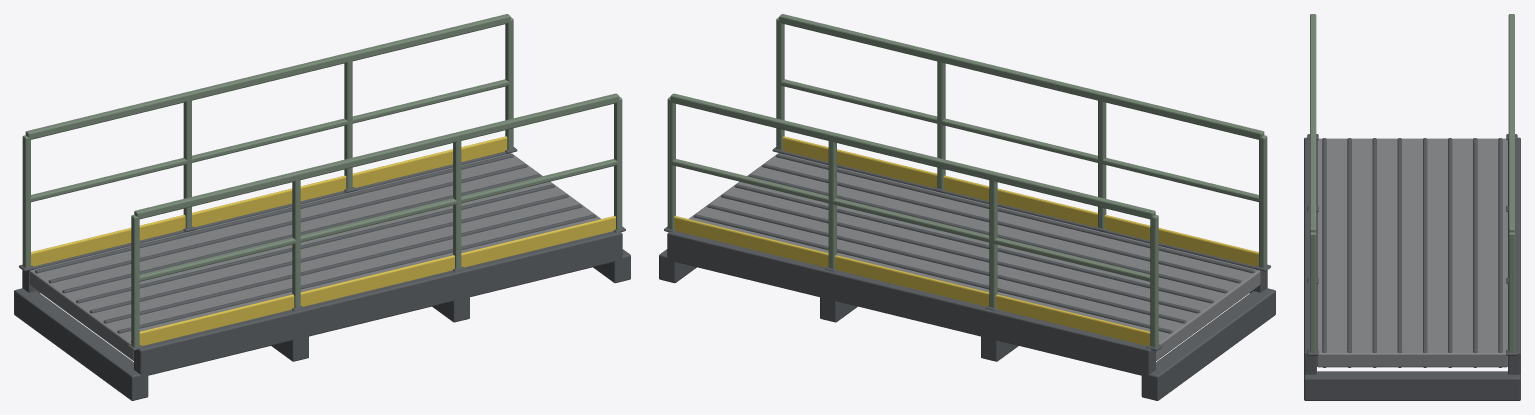
Rendered from catwalk_4.fbx.
3 views of the same model, side by side, from view 1: azimuth 30°, elevation 25°; view 2: azimuth 150°, elevation 25°; view 3: azimuth 270°, elevation 25° (orthographic). The views are drawn at different scales.
Parts seen in each view (by area): view 1: catwalk_4; view 2: catwalk_4; view 3: catwalk_4.
Part boxes in pixels (x1,y1,x2,y2): catwalk_4: (14, 14, 630, 400); catwalk_4: (659, 14, 1275, 400); catwalk_4: (1304, 14, 1520, 400).
Size of the model in its own units: 4.14 by 1.46 by 1.7.
